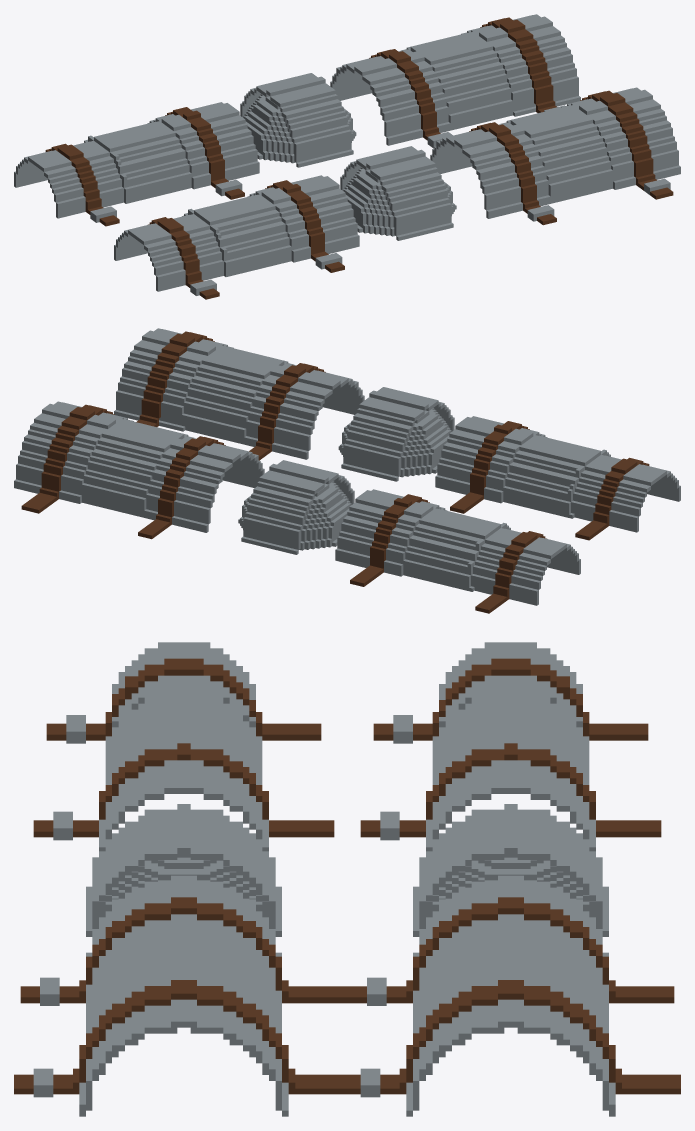
Rendered from armguard_lightplate.glb.
3 views of the same model, one above another, from view 1: azimuth 30°, elevation 25°; view 2: azimuth 150°, elevation 25°; view 3: azimuth 270°, elevation 25° (orthographic). The views are drawn at different scales.
Visible parts, largest first — view 1: armguard_lightplate:compound; view 2: armguard_lightplate:compound; view 3: armguard_lightplate:compound.
Boxes of the visible parts, x1,y1,x2,y2 form: armguard_lightplate:compound: (14,14,680,299); armguard_lightplate:compound: (14,328,680,613); armguard_lightplate:compound: (14,642,680,1116).
Size of the model in its own units: 0.592 by 0.068 by 0.408.
